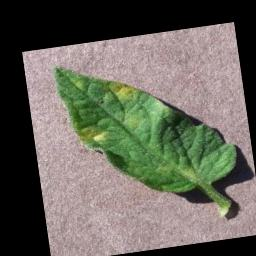Leaf_Mold: (74, 121, 112, 149), (106, 76, 142, 105)
